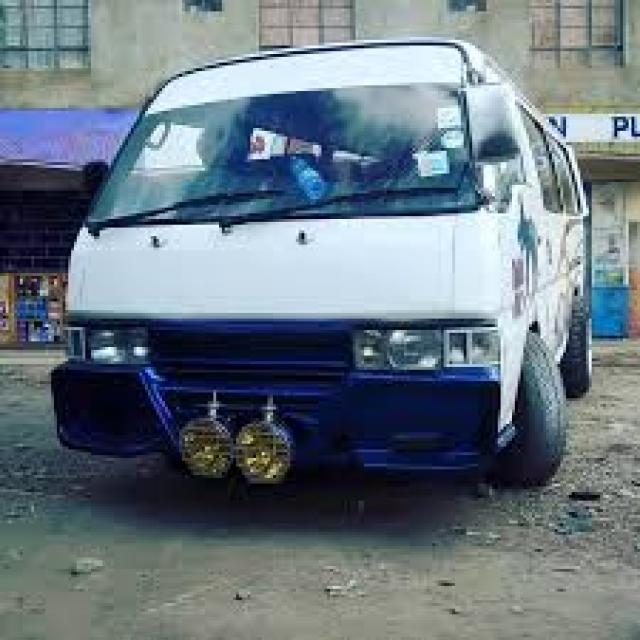matatu: (50, 20, 628, 510)
